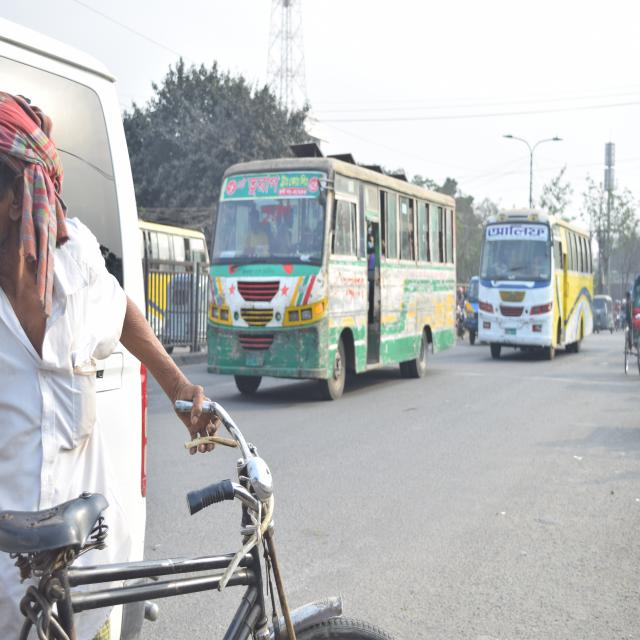bus: (200, 148, 462, 402), (473, 205, 597, 355)
